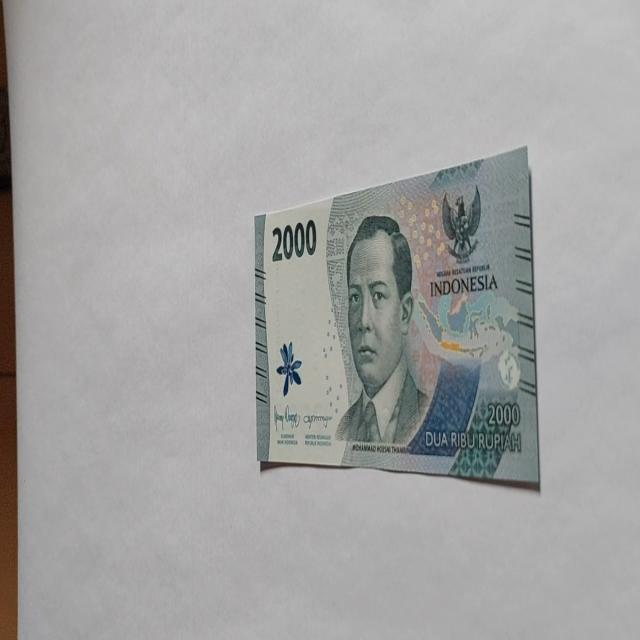dua ribu rupiah: (253, 145, 540, 488), (334, 214, 430, 454)
